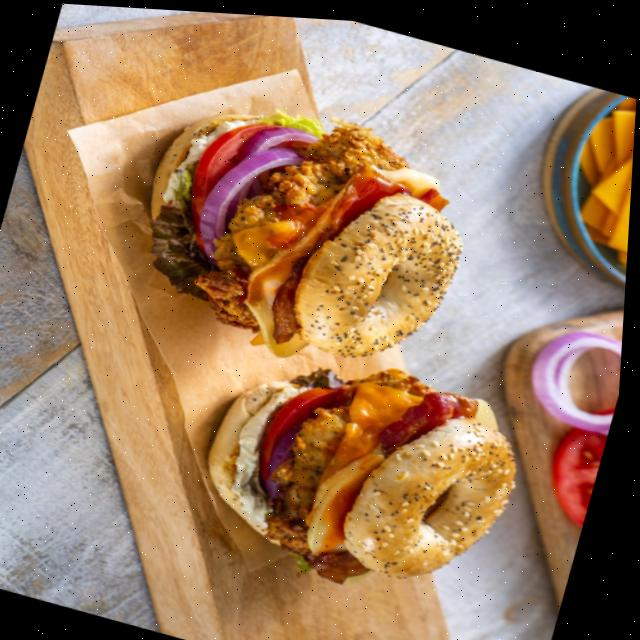Bacon: (246, 161, 411, 353), (383, 386, 481, 448), (274, 253, 309, 339)
Bagel: (297, 188, 464, 352), (349, 412, 520, 572)
